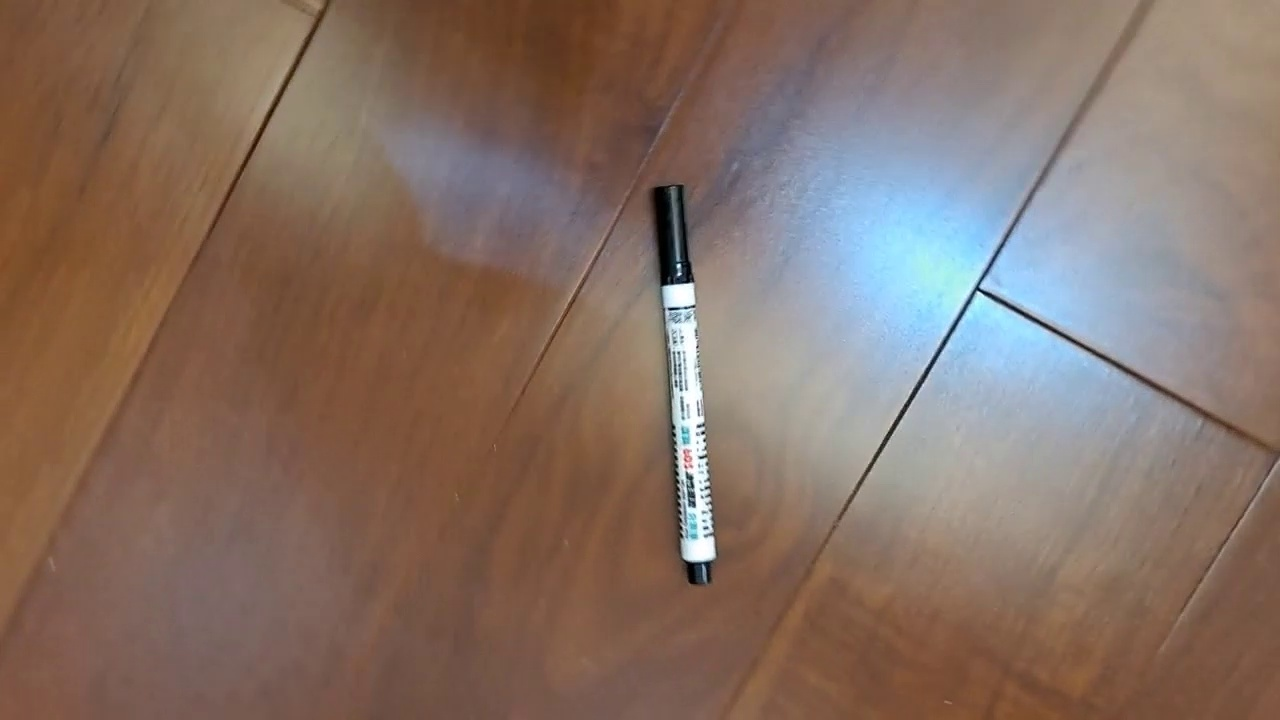pen: (650, 182, 719, 587)
